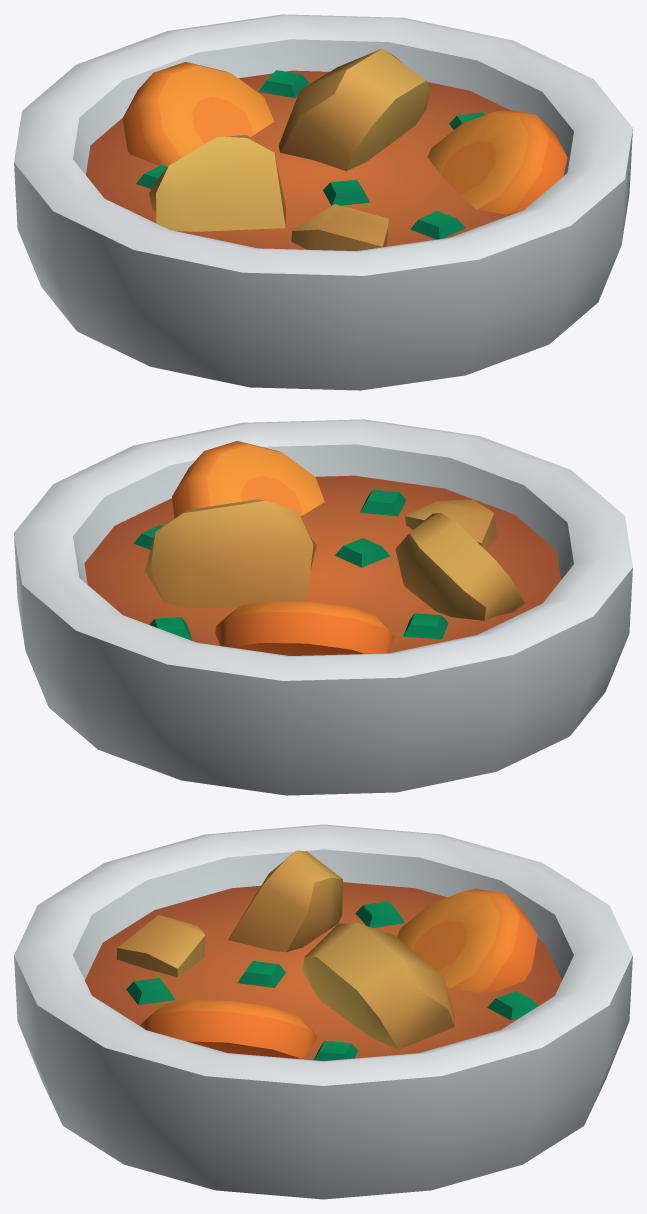
File: kay-food_stew.glb
The picture shows the model from 3 angles, top to bottom: view 1: azimuth 30°, elevation 25°; view 2: azimuth 150°, elevation 25°; view 3: azimuth 270°, elevation 25°; orthographic projection.
Parts seen in each view (by area): view 1: food_stew; view 2: food_stew; view 3: food_stew.
Part boxes in pixels (x1,y1,x2,y2): food_stew: [14, 14, 632, 390]; food_stew: [14, 419, 632, 795]; food_stew: [14, 824, 632, 1199].
Size of the model in its own units: 0.22 by 0.0856 by 0.22.
1 material, 1 textured.
